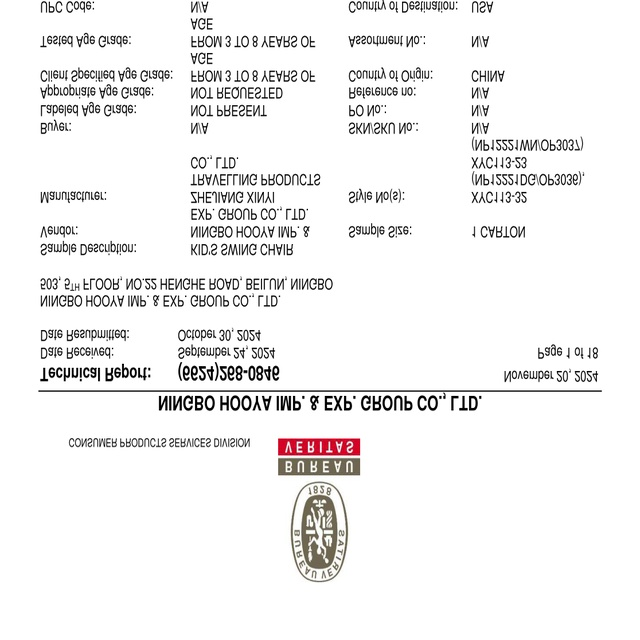bureau_veritas: (278, 437, 362, 584)
